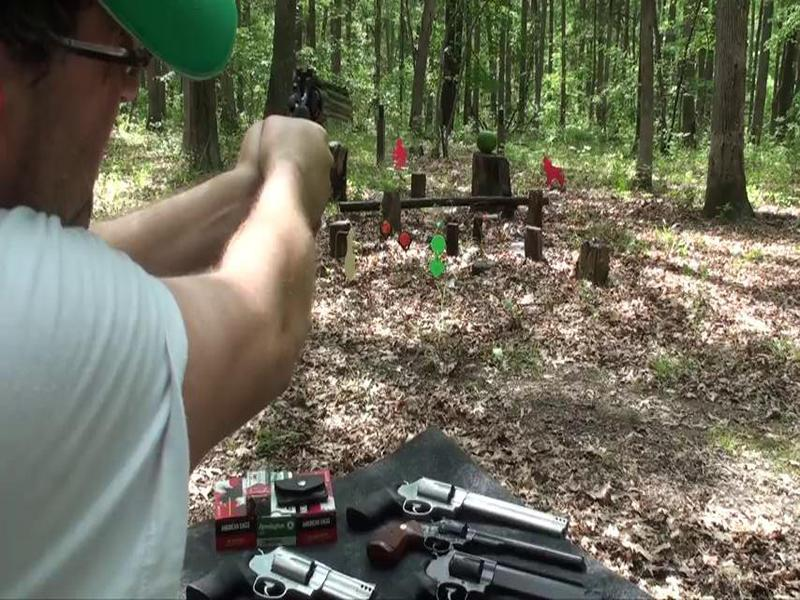Revolver: (271, 57, 356, 159)
